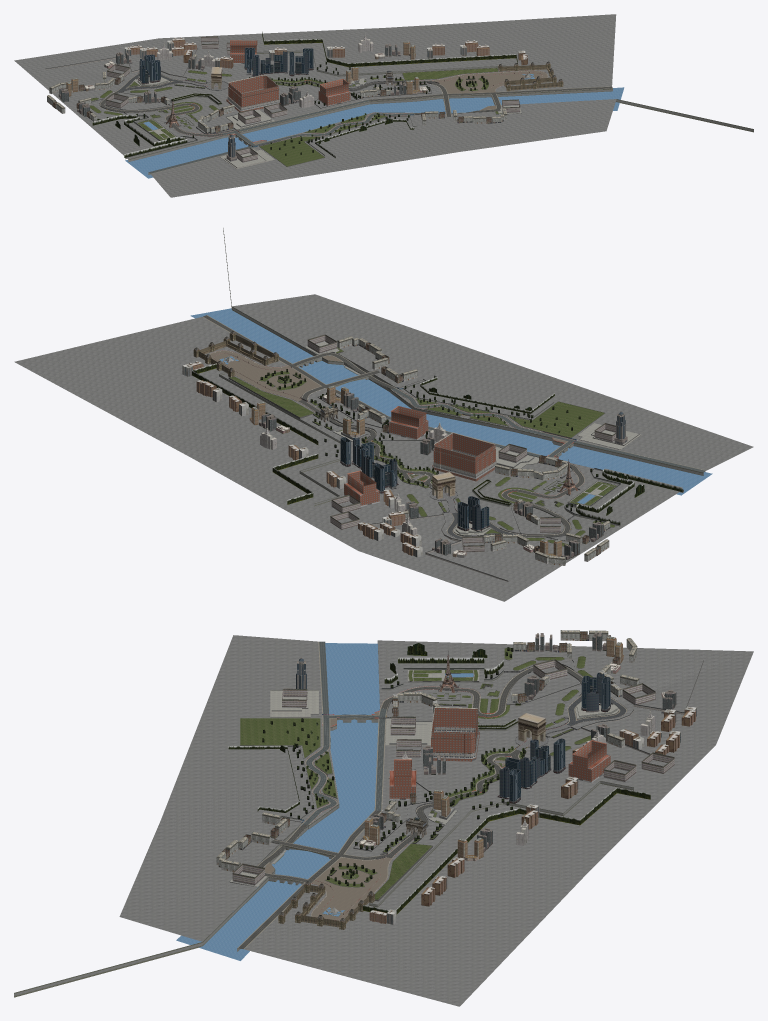
File: paris.glb
The picture shows the model from 3 angles, top to bottom: view 1: azimuth 30°, elevation 25°; view 2: azimuth 150°, elevation 25°; view 3: azimuth 270°, elevation 25°; orthographic projection. The views are drawn at different scales.
Parts seen in each view (by area): view 1: mesh; view 2: mesh; view 3: mesh.
Part boxes in pixels (<box>): mesh: <box>14,14,753,197</box>; mesh: <box>14,228,753,601</box>; mesh: <box>14,630,753,1006</box>.
Size of what is drawn, in the model's own units: 3444 by 200 by 2912.
Materials: 48 (48 with a texture image).
